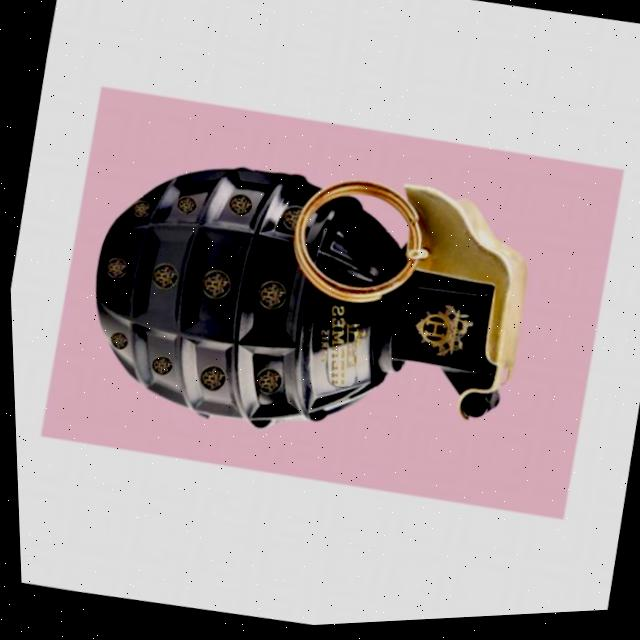grenade: (57, 122, 538, 484)
